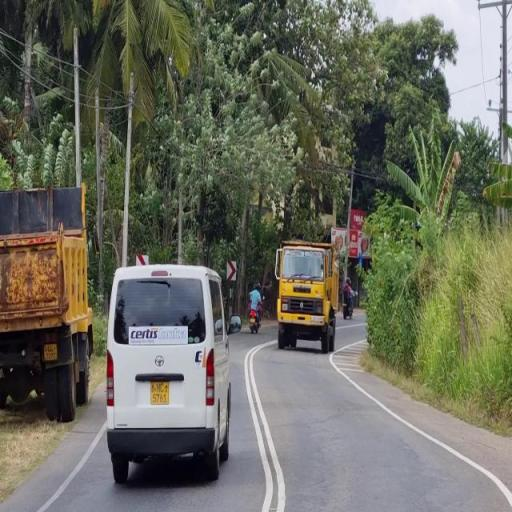double_white_line: (327, 350, 512, 506), (243, 341, 288, 511), (35, 416, 106, 510)
